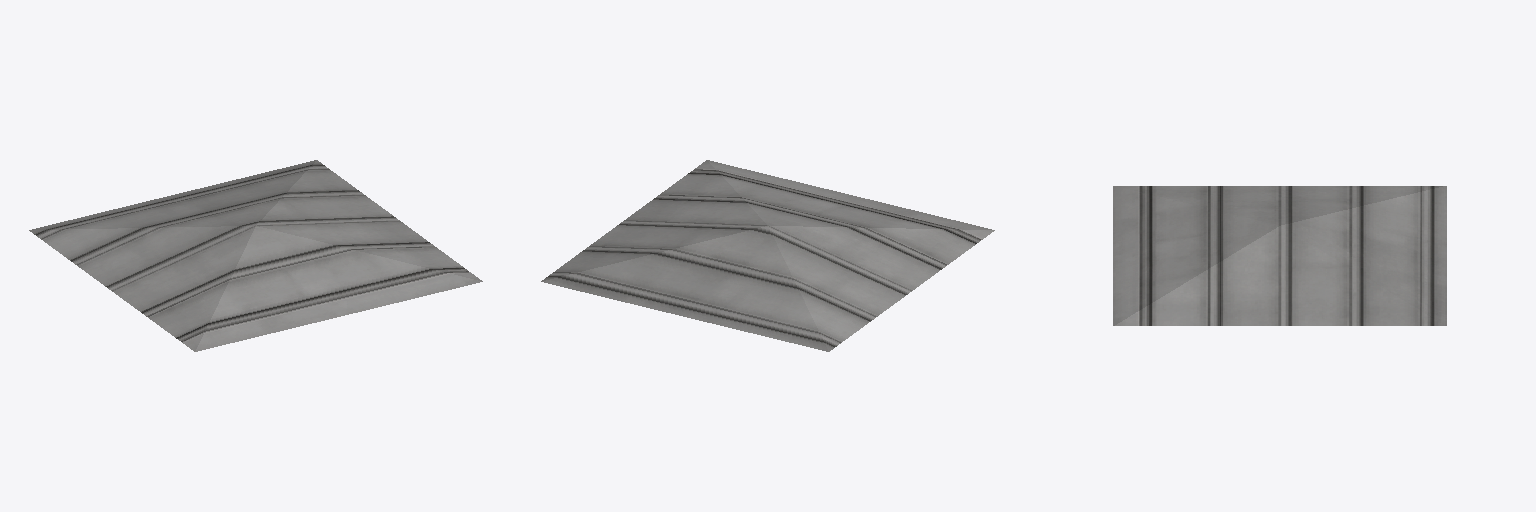
3 renders of one model, left to right at view 1: azimuth 30°, elevation 25°; view 2: azimuth 150°, elevation 25°; view 3: azimuth 270°, elevation 25°, orthographic.
Visible parts, largest first — view 1: OVNI; view 2: OVNI; view 3: OVNI.
Boxes of the visible parts, x1=… form: OVNI: x1=29, y1=160, x2=482, y2=351; OVNI: x1=541, y1=160, x2=994, y2=351; OVNI: x1=1113, y1=186, x2=1446, y2=325.
Size of the model in its own units: 2 by 0.4 by 2.
Materials: 1 (1 with a texture image).